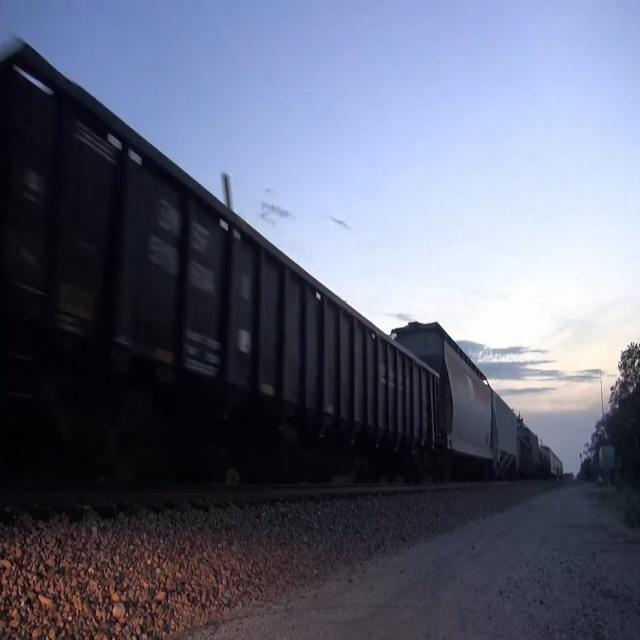gondola: (0, 30, 445, 503)
hopper: (398, 313, 496, 482)
